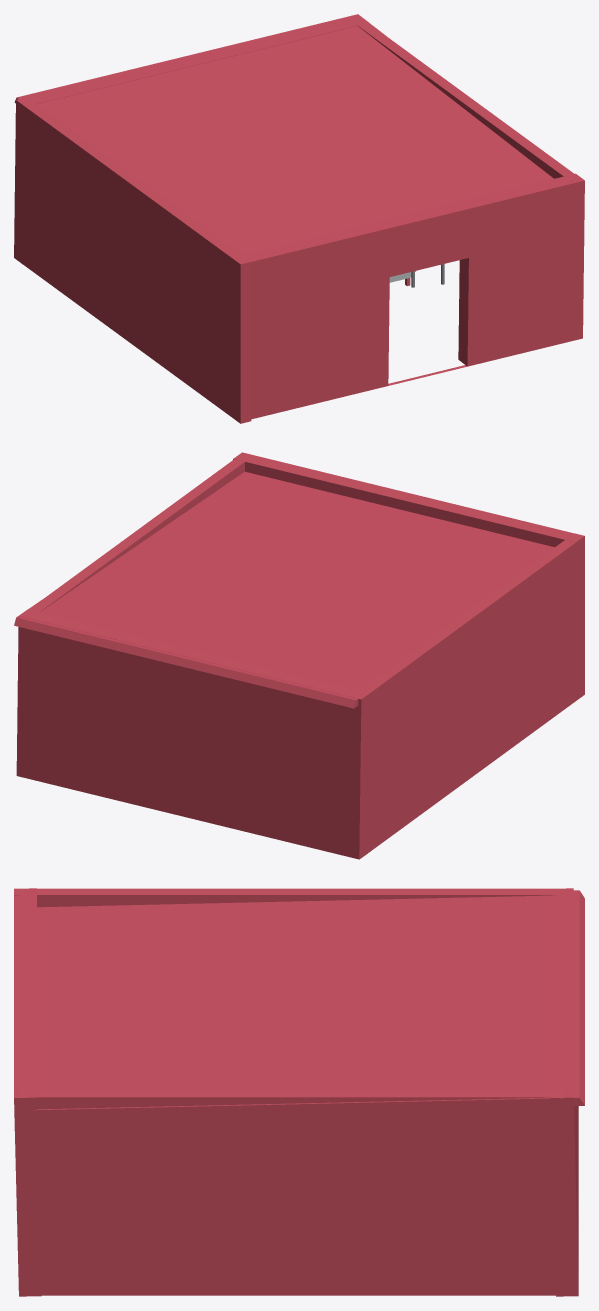
The model's file is Daring Jarv (4).glb.
The picture shows the model from 3 angles, top to bottom: view 1: azimuth 30°, elevation 25°; view 2: azimuth 150°, elevation 25°; view 3: azimuth 270°, elevation 25°; orthographic projection. The views are drawn at different scales.
Visible parts, largest first — view 1: Mesh_Mesh_head_geo.001_lambert2SG.001; view 2: Mesh_Mesh_head_geo.001_lambert2SG.001; view 3: Mesh_Mesh_head_geo.001_lambert2SG.001.
Boxes of the visible parts, x1,y1,x2,y2 form: Mesh_Mesh_head_geo.001_lambert2SG.001: (14,14,584,423); Mesh_Mesh_head_geo.001_lambert2SG.001: (14,452,584,859); Mesh_Mesh_head_geo.001_lambert2SG.001: (14,888,584,1296).
Bounding box in the file's own units: 210 × 93 × 242.
